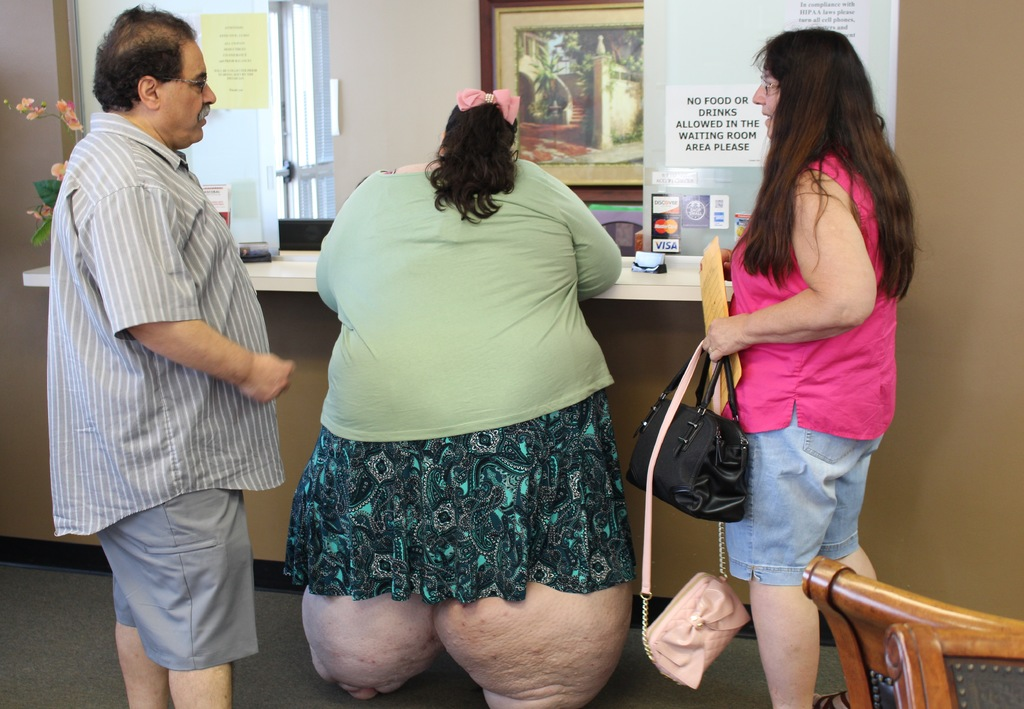Footwear: (812, 692, 861, 708)
